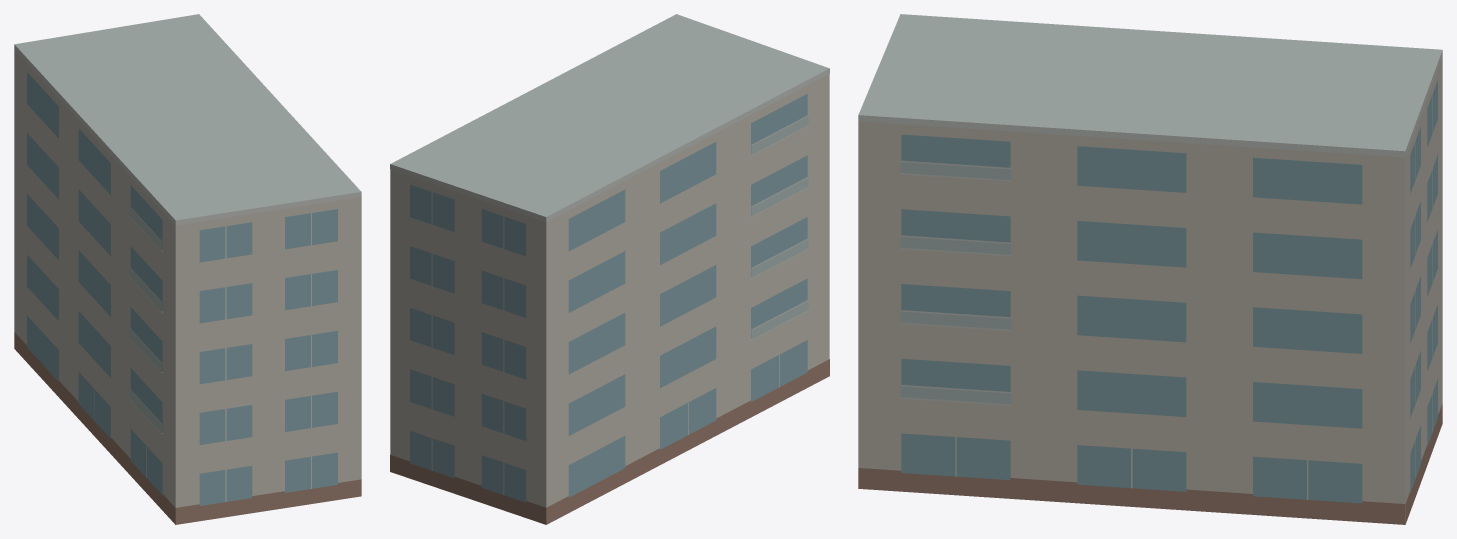
File: survey-upis-32764668.glb
3 renders of one model, left to right at view 1: azimuth 30°, elevation 25°; view 2: azimuth 150°, elevation 25°; view 3: azimuth 270°, elevation 25°, orthographic. The views are drawn at different scales.
Parts seen in each view (by area): view 1: survey-upis-32764668.tmp; view 2: survey-upis-32764668.tmp; view 3: survey-upis-32764668.tmp.
Boxes of the visible parts, x1,y1,x2,y2 form: survey-upis-32764668.tmp: (14,14,361,524); survey-upis-32764668.tmp: (390,14,829,524); survey-upis-32764668.tmp: (858,14,1442,524).
Bounding box in the file's own units: 11.51 × 14.6 × 20.7.
